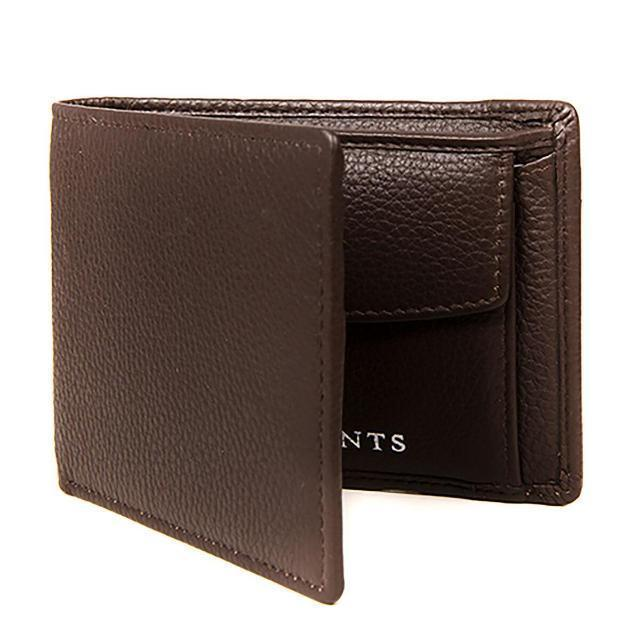wallet: (46, 91, 592, 603)
